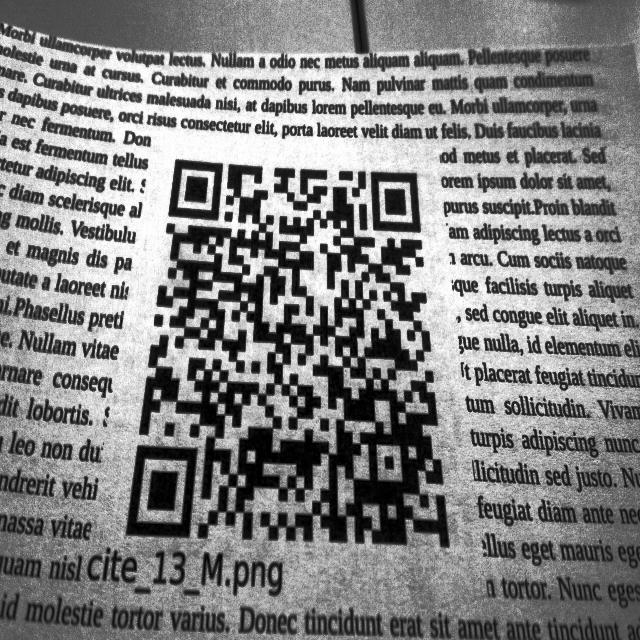qr_code: (127, 157, 450, 548)
